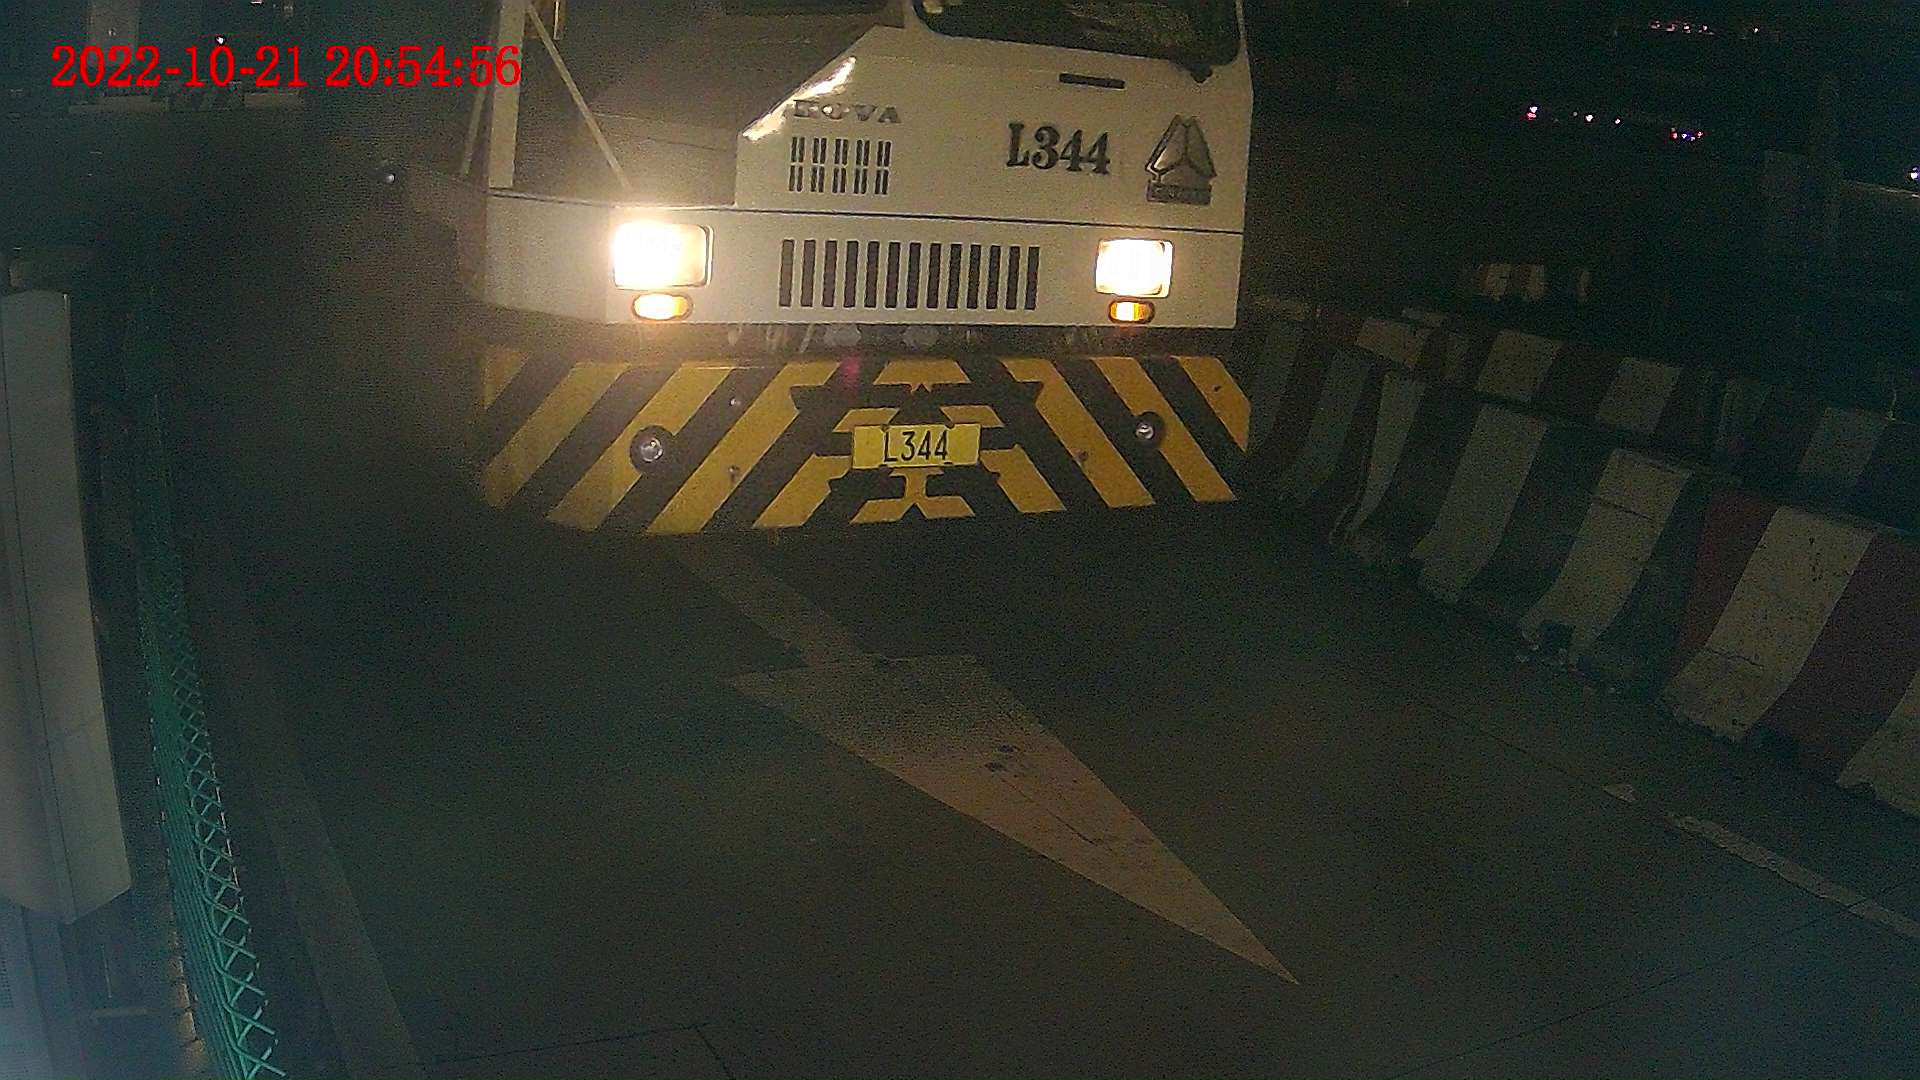head: (401, 1, 1250, 553)
plate: (849, 423, 976, 469)
